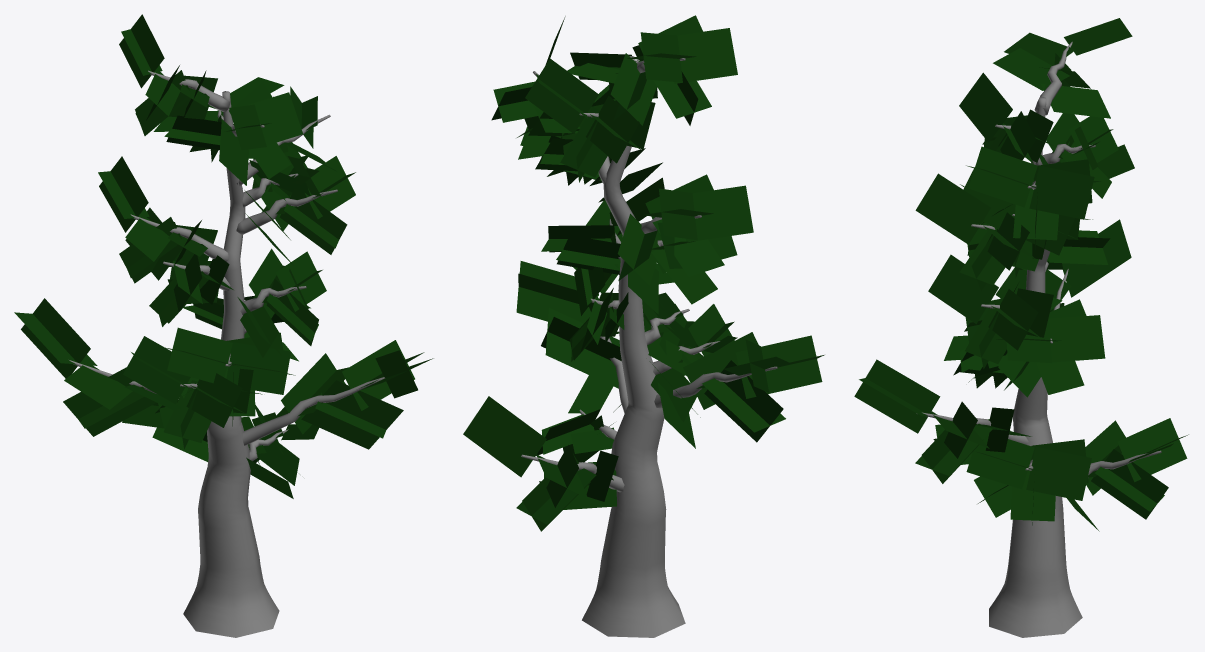
File: TreeA11.obj
3 renders of one model, left to right at view 1: azimuth 30°, elevation 25°; view 2: azimuth 150°, elevation 25°; view 3: azimuth 270°, elevation 25°, orthographic. The views are drawn at different scales.
Parts seen in each view (by area): view 1: TreeAA1 Trees; view 2: TreeAA1 Trees; view 3: TreeAA1 Trees.
Part boxes in pixels (bbox=[...]): TreeAA1 Trees: bbox=[14, 14, 433, 637]; TreeAA1 Trees: bbox=[463, 15, 824, 637]; TreeAA1 Trees: bbox=[854, 18, 1188, 637].
Bounding box in the file's own units: 2.53 × 4.35 × 2.29.
